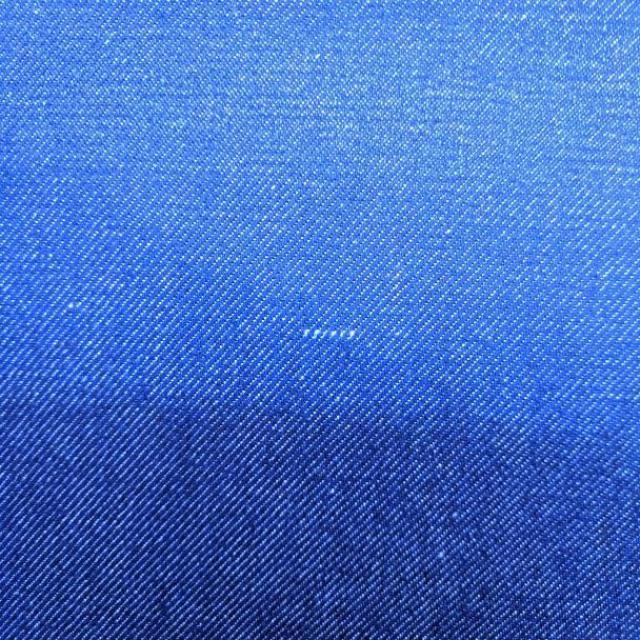Knot: (302, 329, 358, 341)
